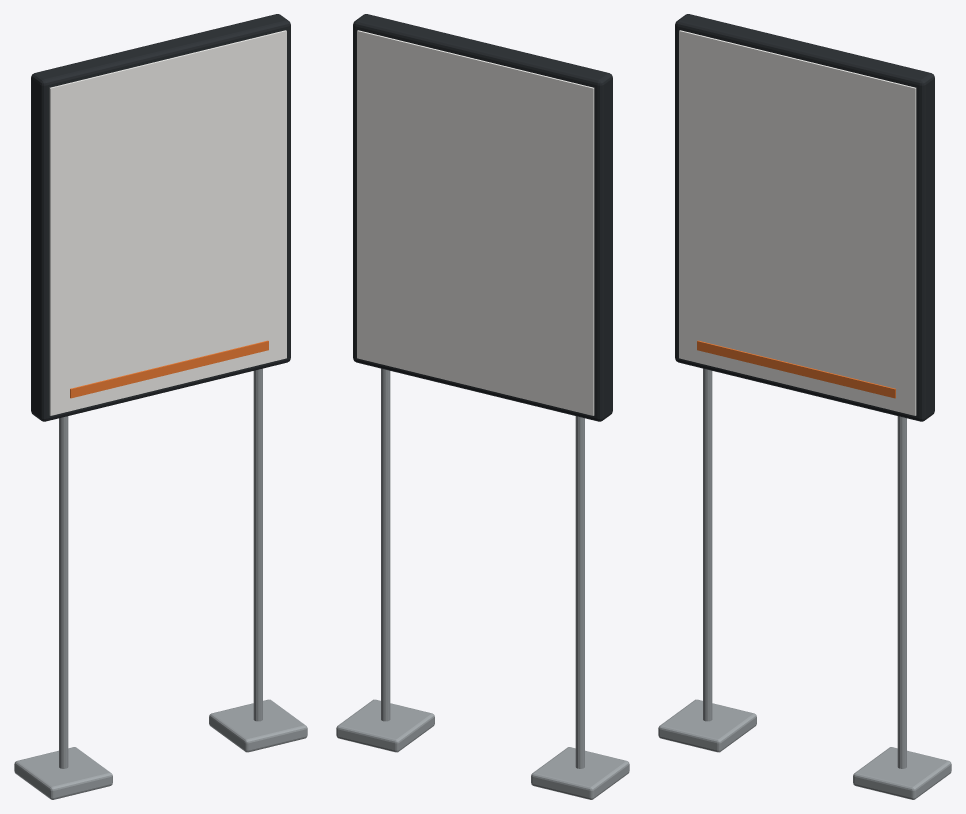
Rendered from aisle-number-sign.glb.
The picture shows the model from 3 angles, left to right: view 1: azimuth 30°, elevation 25°; view 2: azimuth 150°, elevation 25°; view 3: azimuth 330°, elevation 25°; orthographic projection.
Parts seen in each view (by area): view 1: White front face, Sign frame, Slim sign support.001, Slim sign support, Support foot, Support foot.001, Orange base rule; view 2: White rear face, Sign frame, Slim sign support.001, Slim sign support, Support foot, Support foot.001; view 3: White front face, Sign frame, Slim sign support, Slim sign support.001, Support foot, Support foot.001, Orange base rule.
Part boxes in pixels (x1,y1,x2,y2): White front face: (49,30,286,415); Sign frame: (31,14,290,421); Slim sign support.001: (253,368,262,721); Slim sign support: (59,416,68,768); Support foot: (14,747,112,799); Support foot.001: (209,699,307,752); Orange base rule: (70,340,268,398); White rear face: (357,30,594,415); Sign frame: (353,14,612,421); Slim sign support.001: (381,368,390,721); Slim sign support: (575,416,584,768); Support foot: (531,747,629,799); Support foot.001: (336,699,434,752); White front face: (679,30,916,415); Sign frame: (675,14,934,421); Slim sign support: (703,368,712,721); Slim sign support.001: (897,416,906,768); Support foot: (658,699,756,752); Support foot.001: (853,747,951,799); Orange base rule: (697,340,895,398).
Size of the model in its own units: 0.74 by 1.95 by 0.19.
